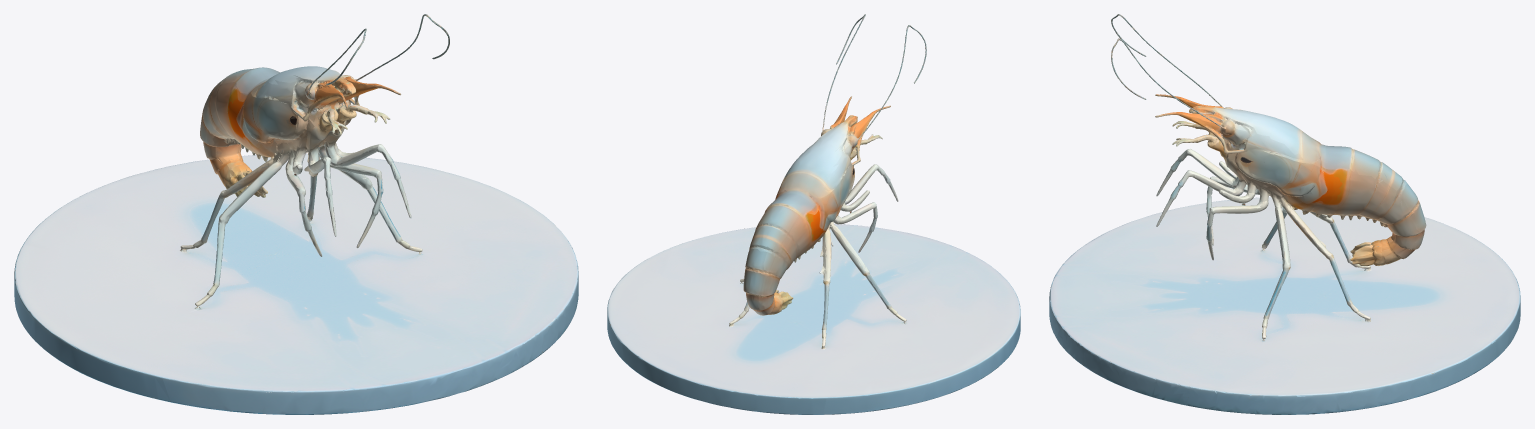
Rendered from fish_gutter_prawn.glb.
3 renders of one model, left to right at view 1: azimuth 30°, elevation 25°; view 2: azimuth 150°, elevation 25°; view 3: azimuth 270°, elevation 25°, orthographic. The views are drawn at different scales.
Size of the model in its own units: 1.9 by 1.29 by 1.9.
Materials: 1 (1 with a texture image).
